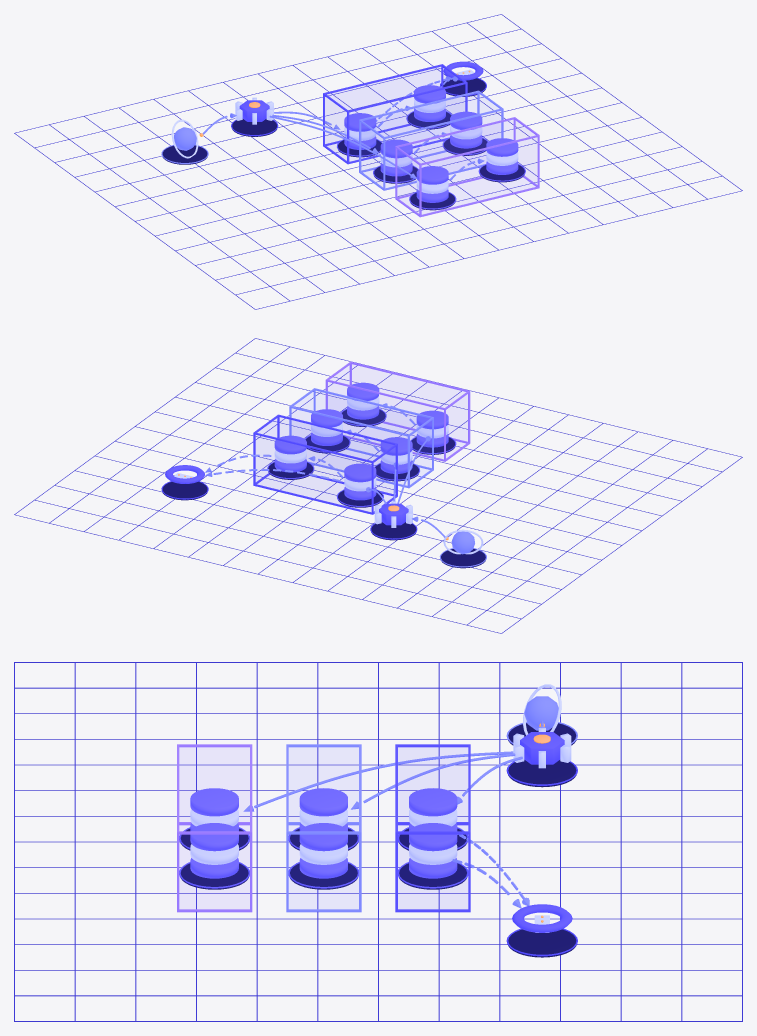
Rendered from redis.glb.
3 views of the same model, one above another, from view 1: azimuth 30°, elevation 25°; view 2: azimuth 150°, elevation 25°; view 3: azimuth 270°, elevation 25° (orthographic). The views are drawn at different scales.
Parts seen in each view (by area): view 1: floor, group_Shard_3, group_Shard_2, group_Shard_1, mesh_client_pad, mesh_slots_pad, mesh_gossip_pad, mesh_m3_disc2; view 2: floor, group_Shard_1, group_Shard_3, group_Shard_2, mesh_gossip_pad, mesh_client_pad, mesh_slots_pad, mesh_m1_disc2; view 3: floor, group_Shard_3, group_Shard_1, group_Shard_2, mesh_gossip_pad, mesh_slots_pad, mesh_m3_disc2, mesh_m1_disc2, mesh_m2_disc2, mesh_r1_disc2, mesh_r2_disc2, mesh_r3_disc2 (+13 smaller).
Part boxes in pixels (x1,y1,x2,y2): floor: [14, 14, 742, 309]; group_Shard_3: [395, 117, 539, 217]; group_Shard_2: [359, 90, 503, 190]; group_Shard_1: [323, 64, 467, 164]; mesh_client_pad: [162, 145, 207, 164]; mesh_slots_pad: [232, 119, 276, 136]; mesh_gossip_pad: [441, 78, 485, 96]; mesh_m3_disc2: [416, 166, 448, 184]; floor: [14, 338, 742, 633]; group_Shard_1: [253, 414, 397, 514]; group_Shard_3: [325, 361, 470, 461]; group_Shard_2: [289, 388, 433, 488]; mesh_gossip_pad: [162, 481, 207, 500]; mesh_client_pad: [441, 549, 485, 568]; mesh_slots_pad: [371, 522, 416, 540]; mesh_m1_disc2: [344, 463, 376, 482]; floor: [14, 662, 742, 1021]; group_Shard_3: [177, 744, 252, 912]; group_Shard_1: [395, 744, 470, 912]; group_Shard_2: [286, 744, 361, 912]; mesh_gossip_pad: [508, 929, 576, 957]; mesh_slots_pad: [508, 760, 576, 787]; mesh_m3_disc2: [190, 788, 238, 816]; mesh_m1_disc2: [409, 788, 457, 816]; mesh_m2_disc2: [299, 788, 347, 816]; mesh_r1_disc2: [409, 823, 457, 851]; mesh_r2_disc2: [299, 823, 347, 851]; mesh_r3_disc2: [190, 823, 238, 851].
Size of the model in its own units: 28.03 by 2.91 by 24.03.
